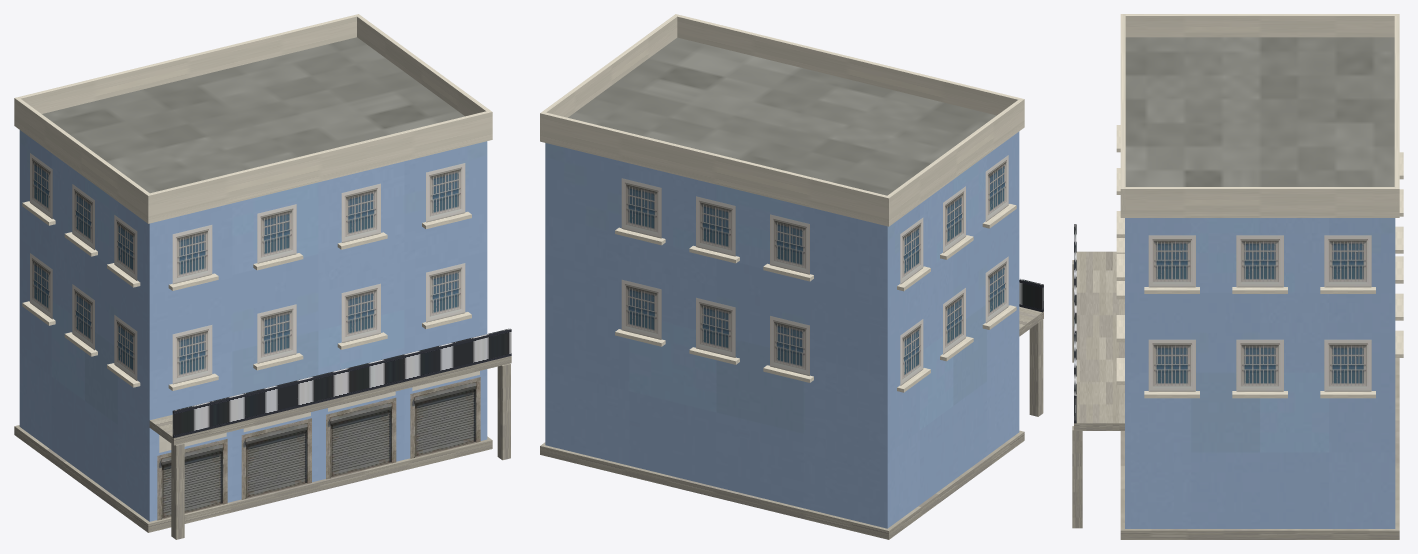
File: shops-sky.glb
3 renders of one model, left to right at view 1: azimuth 30°, elevation 25°; view 2: azimuth 150°, elevation 25°; view 3: azimuth 270°, elevation 25°, orthographic. The views are drawn at different scales.
Visible parts, largest first — view 1: shops-sky; view 2: shops-sky; view 3: shops-sky.
Boxes of the visible parts, bbox=[...] form: shops-sky: bbox=[14, 14, 511, 539]; shops-sky: bbox=[540, 14, 1043, 539]; shops-sky: bbox=[1072, 14, 1403, 539].
Size of the model in its own units: 12.48 by 11.45 by 9.79.
1 material, 1 textured.
